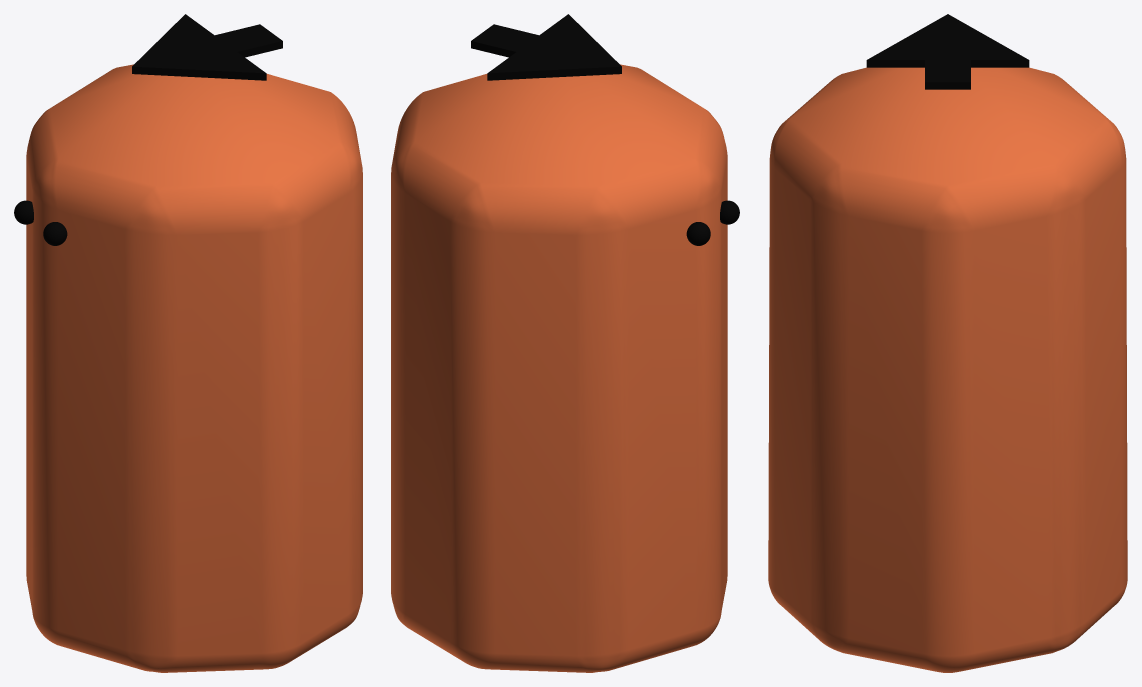
The model's file is sbeige.obj.
3 renders of one model, left to right at view 1: azimuth 30°, elevation 25°; view 2: azimuth 150°, elevation 25°; view 3: azimuth 270°, elevation 25°, orthographic.
Parts seen in each view (by area): view 1: Cube.020_Cube.009; view 2: Cube.020_Cube.009; view 3: Cube.020_Cube.009.
Boxes of the visible parts, box(x1,y1,x2,y2) form: Cube.020_Cube.009: box(14, 14, 362, 672); Cube.020_Cube.009: box(391, 14, 739, 672); Cube.020_Cube.009: box(768, 14, 1127, 672).
Size of the model in its own units: 0.2642 by 0.4425 by 0.2565.
